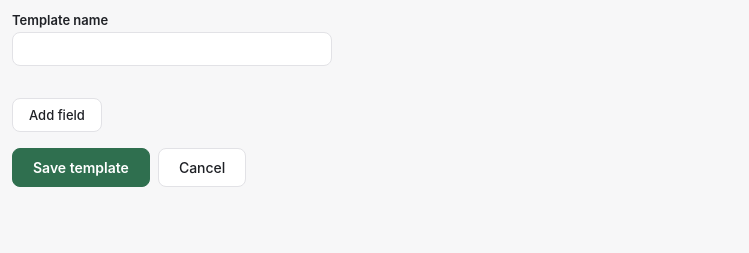
TemplateEditor › adds a new field row
Step 1. Click the button "Add field" → (57, 115), box left=12, top=98, right=102, bottom=132
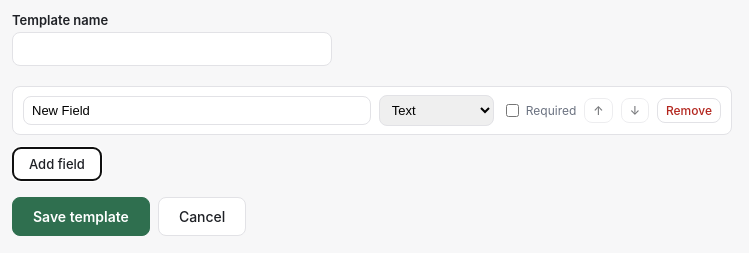
Check: the field named "field 1 label" holds "New Field", box left=23, top=96, right=371, bottom=125
